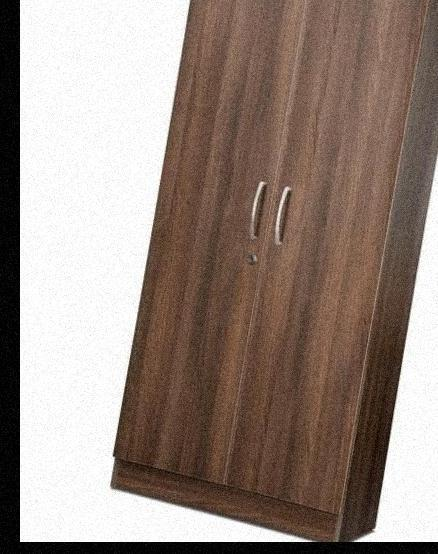Armario: (106, 0, 438, 537)
